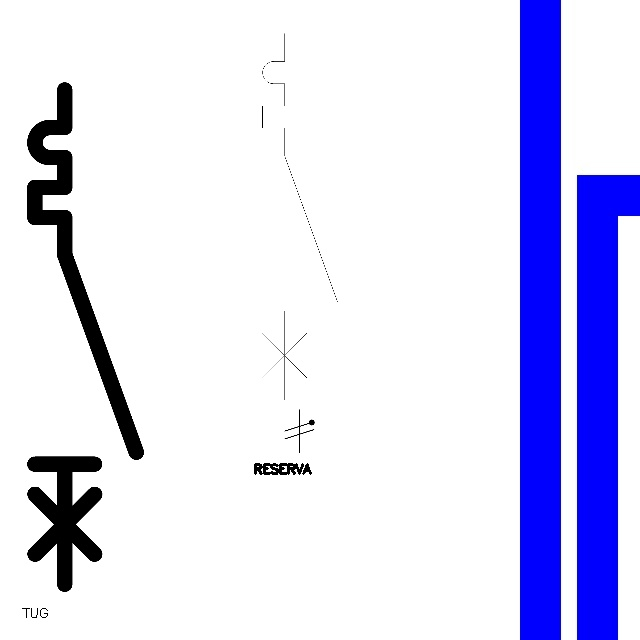interruptor_termomagnetico: (22, 77, 149, 597), (253, 24, 347, 409)
